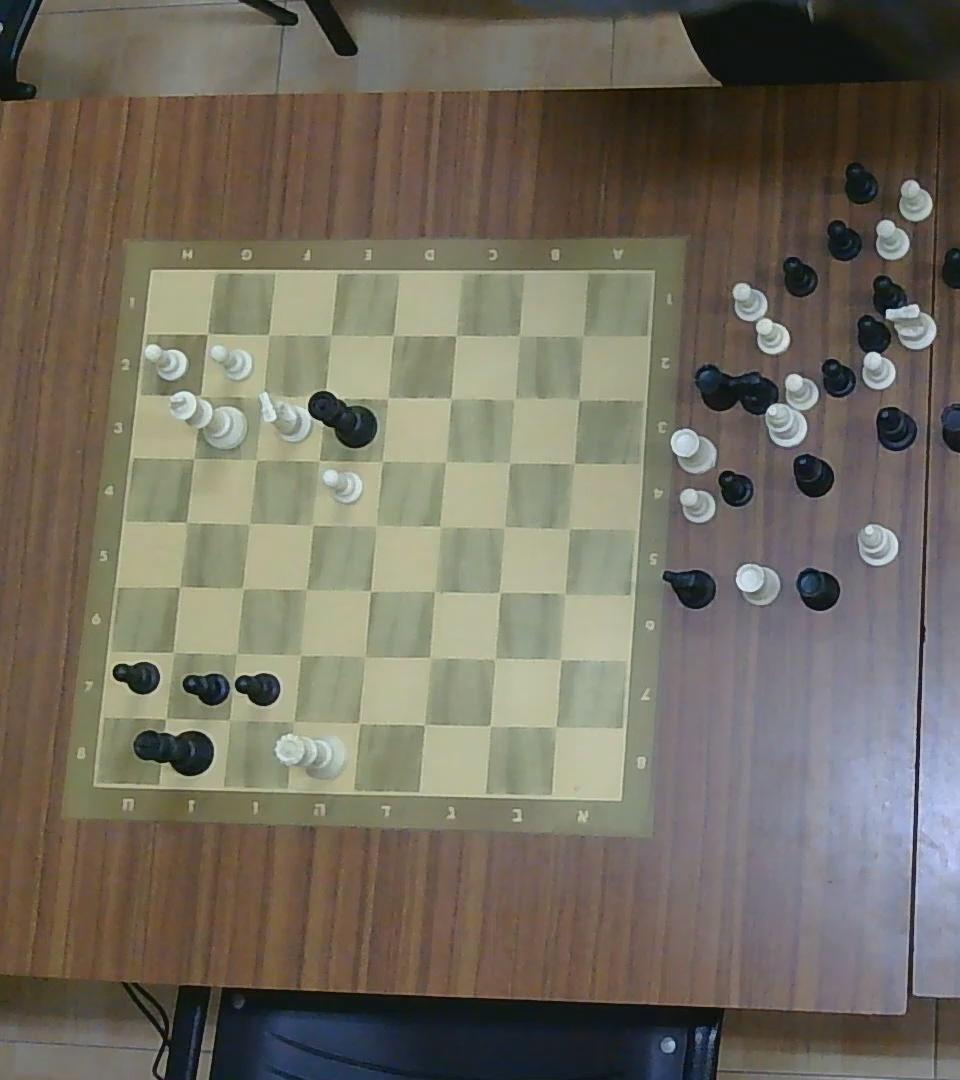xcorner: (477, 712, 503, 738), (542, 714, 569, 739), (246, 385, 272, 410), (412, 711, 437, 736), (281, 708, 305, 732), (482, 647, 506, 671), (347, 710, 371, 734), (418, 644, 442, 668), (154, 705, 178, 729), (353, 644, 376, 668), (288, 642, 311, 666), (319, 324, 341, 346), (218, 709, 240, 731), (439, 387, 461, 408), (225, 642, 246, 663), (372, 449, 392, 471), (549, 648, 571, 668), (188, 386, 210, 406), (183, 448, 203, 469), (366, 514, 386, 535), (423, 581, 443, 602), (429, 516, 449, 536), (445, 325, 465, 345), (559, 518, 579, 538), (383, 325, 403, 345), (435, 450, 454, 471), (247, 448, 266, 469), (296, 578, 315, 599), (555, 583, 574, 604), (170, 576, 189, 597), (164, 642, 183, 663), (302, 514, 321, 534), (378, 388, 397, 408), (489, 582, 508, 602), (361, 580, 380, 600), (177, 511, 196, 531), (499, 452, 518, 472), (232, 579, 252, 598), (315, 386, 334, 406), (240, 513, 259, 532), (198, 324, 217, 343), (259, 324, 278, 343), (495, 516, 513, 536), (309, 450, 327, 470), (573, 326, 591, 345), (511, 326, 529, 345), (565, 453, 583, 471), (505, 389, 523, 406), (572, 390, 588, 405)
